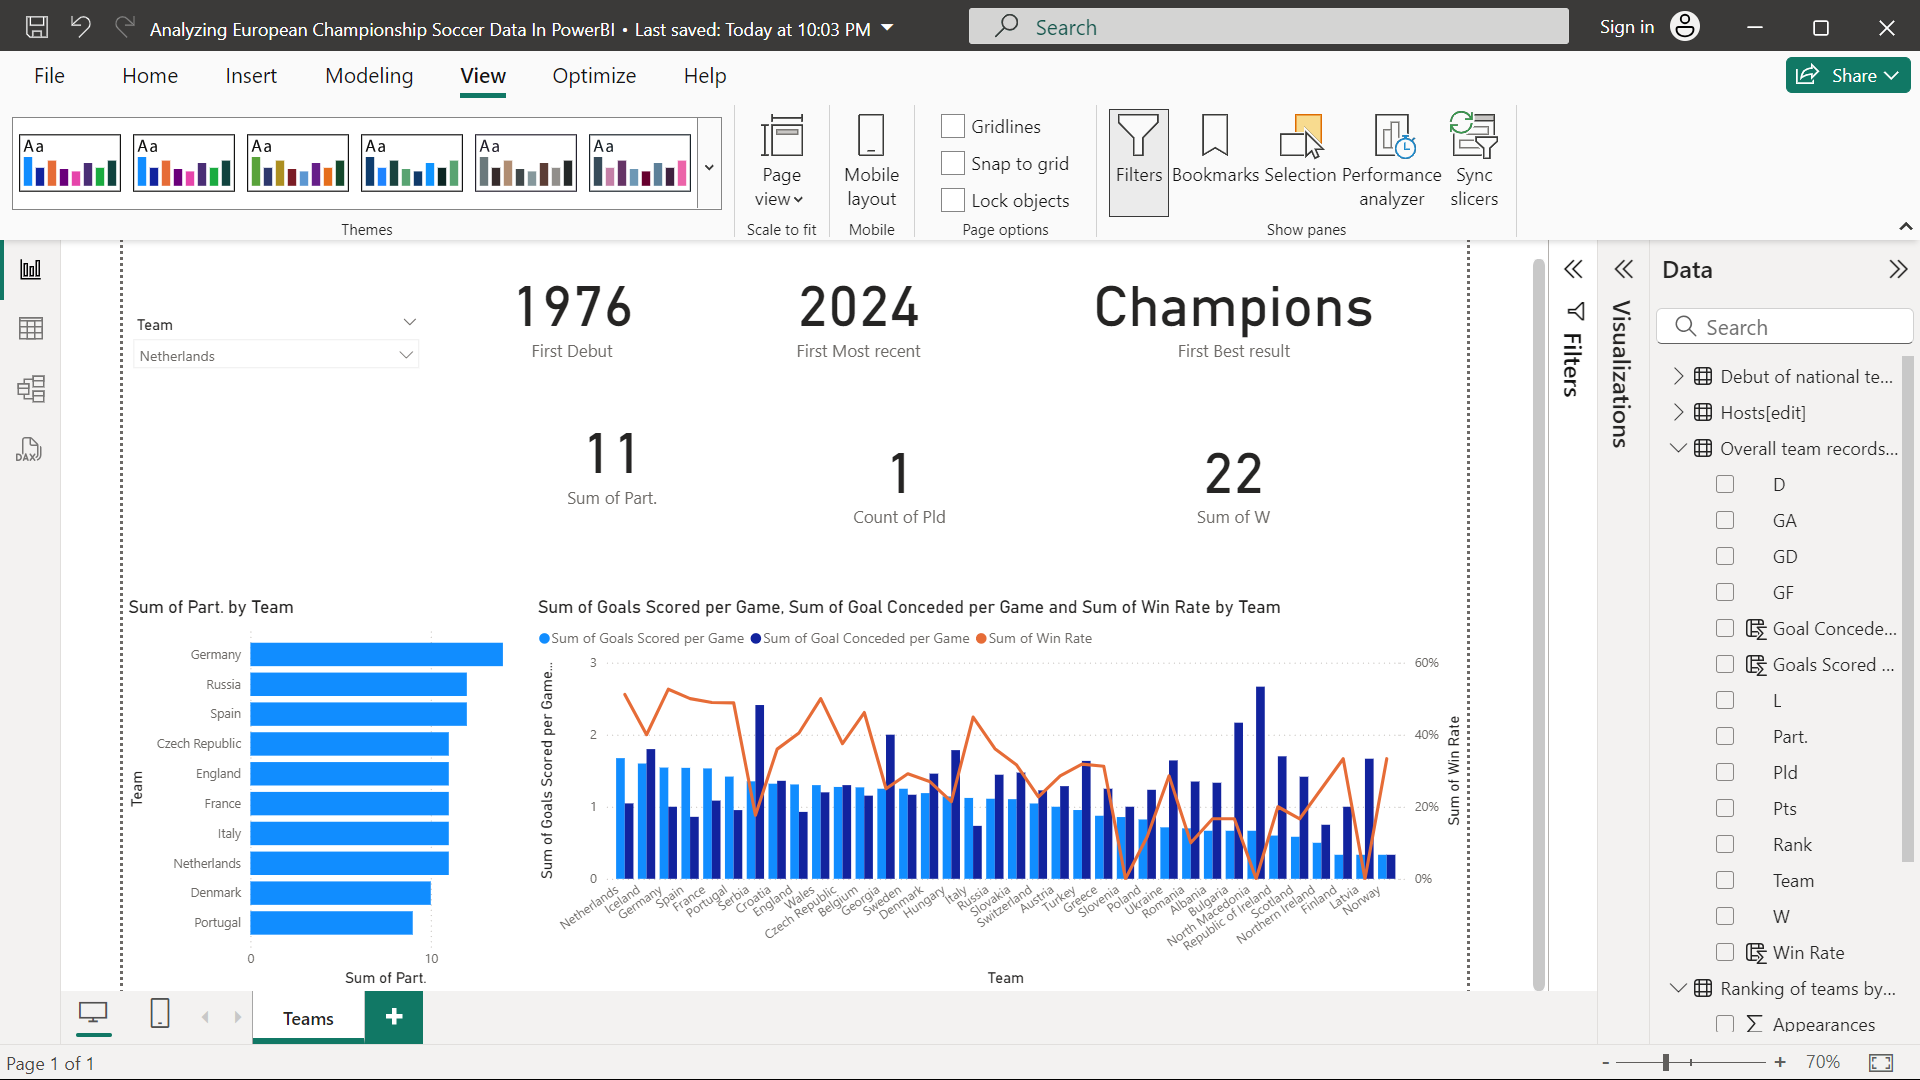

Layout of this report page (visuals, bound fields, positions):
{"tool":"powerbi","page":{"name":"Teams","canvas":[1280,720],"ordinal":0},"visuals":[{"type":"lineClusteredColumnComboChart","fields":{"Category":["Overall team records[edit].Team"],"Y":["Sum(Overall team records[edit].Goals Scored per Game)","Sum(Overall team records[edit].Goal Conceded per Game)"],"Y2":["Sum(Overall team records[edit].Win Rate)"]},"box":[390.7,343.7,888.8,375.5],"z":0},{"type":"clusteredBarChart","fields":{"Category":["Overall team records[edit].Team"],"Y":["Sum(Overall team records[edit].Part.)"]},"box":[0,343.7,390.7,375.5],"z":1000},{"type":"card","fields":{"Values":["CountNonNull(Overall team records[edit].Pld)"]},"box":[604,128,270,202],"z":2000},{"type":"card","fields":{"Values":["Sum(Overall team records[edit].Part.)"]},"box":[292,110,348,202],"z":3000},{"type":"card","fields":{"Values":["Sum(Overall team records[edit].W)"]},"box":[924,128,266,202],"z":4000},{"type":"card","fields":{"Values":["Min(Ranking of teams by number of appearances[edit].Debut)"]},"box":[292,0,272,142],"z":5000},{"type":"card","fields":{"Values":["Min(Ranking of teams by number of appearances[edit].Most recent)"]},"box":[564,0,272,142],"z":6000},{"type":"card","fields":{"Values":["Min(Ranking of teams by number of appearances[edit].Best result)"]},"box":[836,0,444,142],"z":7000},{"type":"slicer","fields":{"Values":["Overall team records[edit].Team"]},"box":[0,72,292,110],"z":7001}]}

Visuals, with their boxes on the page's 1280x720 design canvas (x1, y1, x2, y2). These are canvas units, not pixel positions in the 1920x1080 screenshot, which may show the page scaled, cropped or inside an application window:
lineClusteredColumnComboChart - Overall team records[edit].Team x Sum(Overall team records[edit].Goals Scored per Game): 391 344 1280 719
clusteredBarChart - Overall team records[edit].Team x Sum(Overall team records[edit].Part.): 0 344 391 719
card - CountNonNull(Overall team records[edit].Pld): 604 128 874 330
card - Sum(Overall team records[edit].Part.): 292 110 640 312
card - Sum(Overall team records[edit].W): 924 128 1190 330
card - Min(Ranking of teams by number of appearances[edit].Debut): 292 0 564 142
card - Min(Ranking of teams by number of appearances[edit].Most recent): 564 0 836 142
card - Min(Ranking of teams by number of appearances[edit].Best result): 836 0 1280 142
slicer - Overall team records[edit].Team: 0 72 292 182
